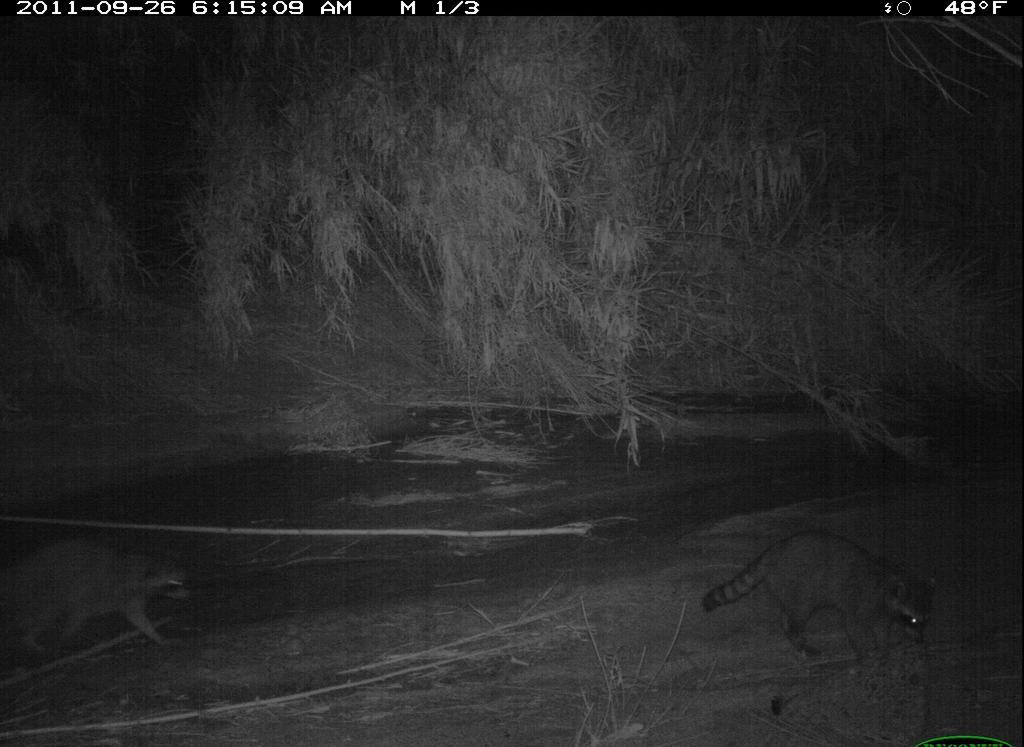raccoon: (698, 521, 944, 706), (2, 529, 201, 680)
